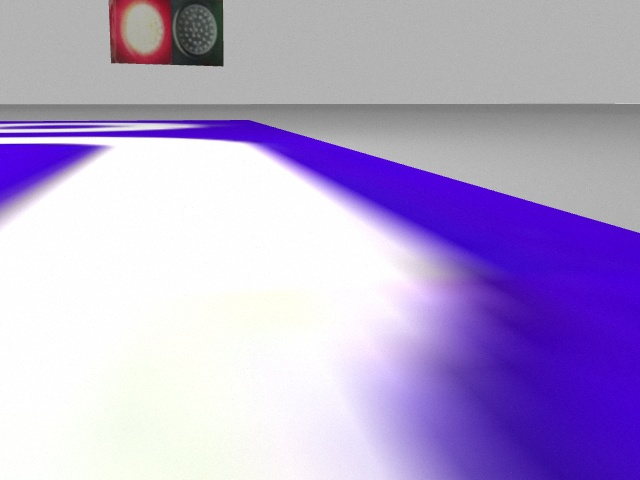red: (108, 1, 171, 65)
